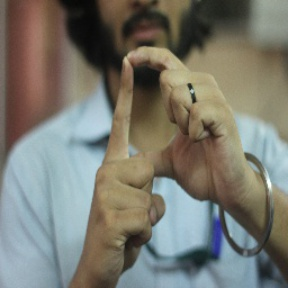D: (105, 42, 227, 199)
